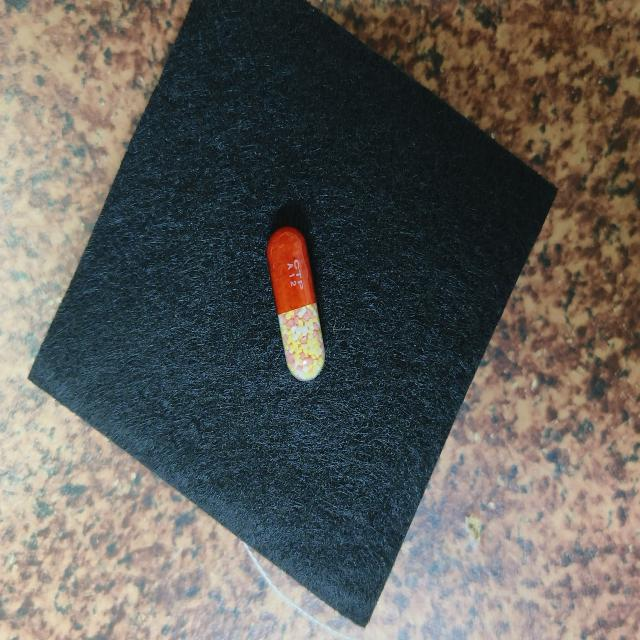Intact Capsule: (267, 227, 325, 381)
